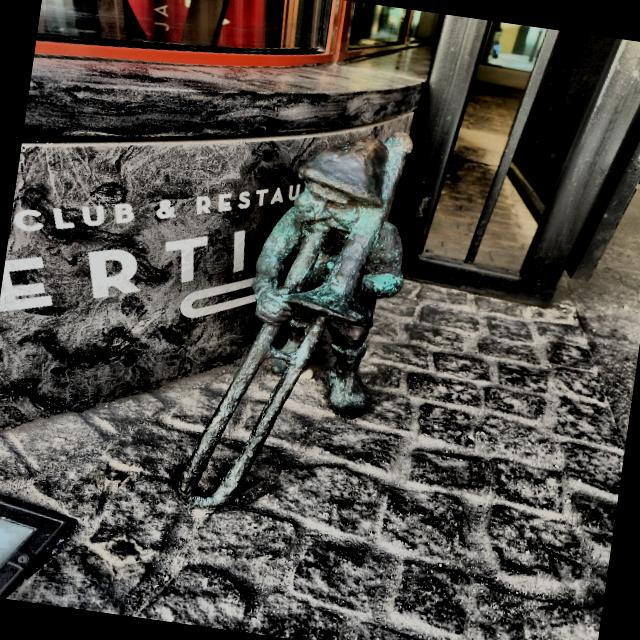Vertigus: (178, 133, 412, 513)
